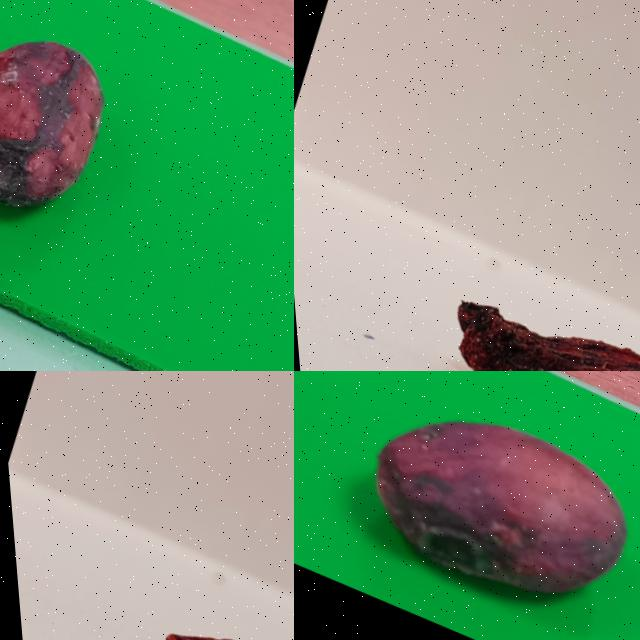Fine_cocoabeans: (294, 371, 639, 639), (0, 0, 231, 319)
Flat_cocoabeans: (380, 246, 639, 370), (63, 531, 293, 639)
